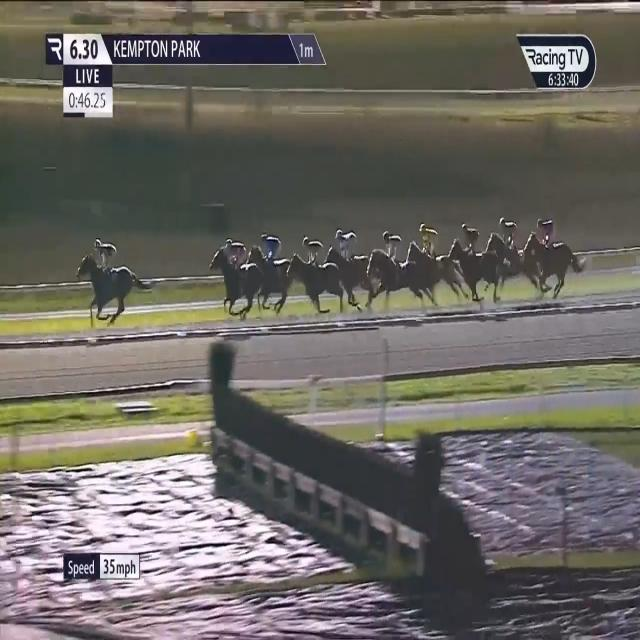horses-racing: (75, 238, 146, 326), (524, 219, 586, 300), (409, 222, 461, 307), (325, 227, 376, 306), (448, 223, 502, 296), (369, 230, 423, 302), (212, 236, 258, 316), (290, 237, 342, 307), (486, 216, 531, 291), (250, 234, 292, 310)
